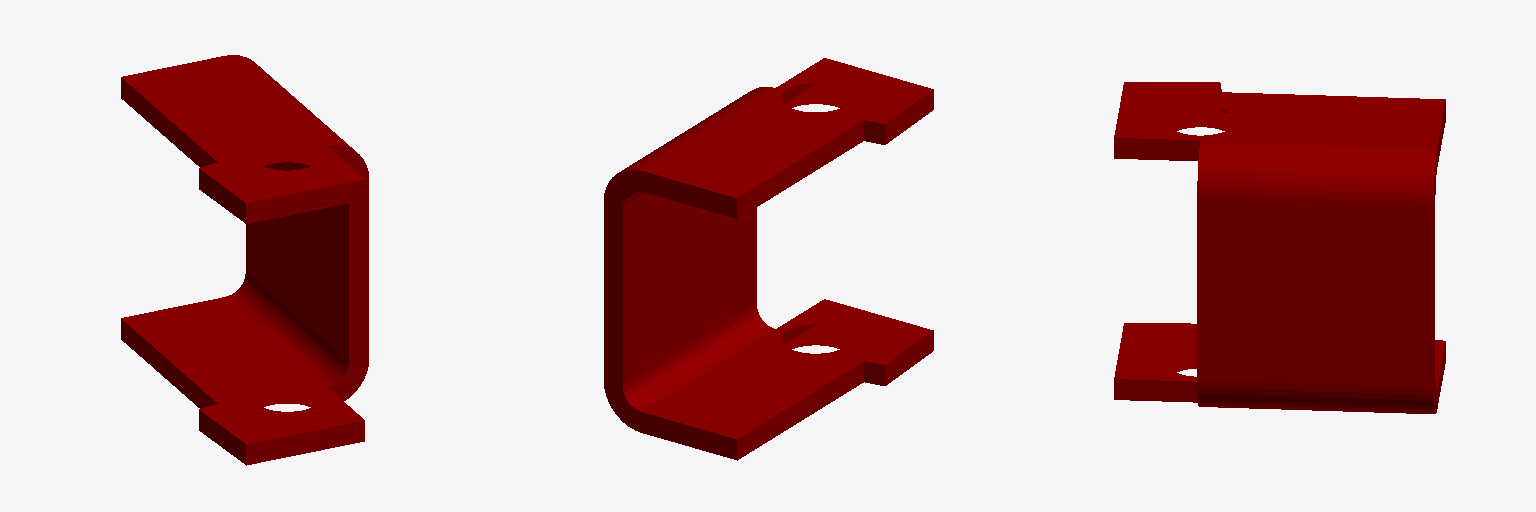
File: original-15.obj
3 views of the same model, side by side, from view 1: azimuth 30°, elevation 25°; view 2: azimuth 150°, elevation 25°; view 3: azimuth 270°, elevation 25° (orthographic).
Parts seen in each view (by area): view 1: #ID66; view 2: #ID66; view 3: #ID66.
Boxes of the visible parts, x1,y1,x2,y2 form: #ID66: [121, 55, 368, 465]; #ID66: [604, 58, 933, 460]; #ID66: [1114, 82, 1445, 413].
Size of the model in its own units: 0.1354 by 0.1937 by 0.2222.